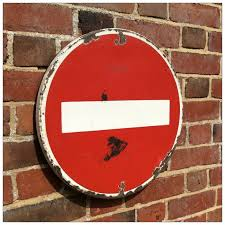No_entry: (36, 27, 183, 200)
